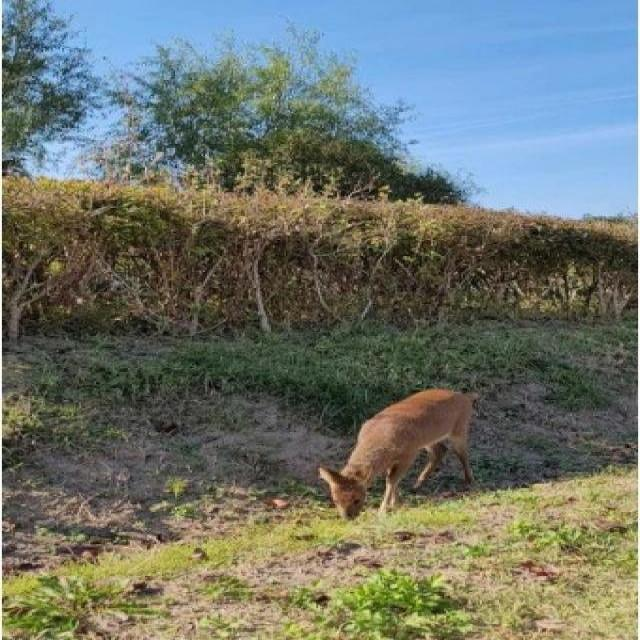deer: (294, 383, 505, 556)
